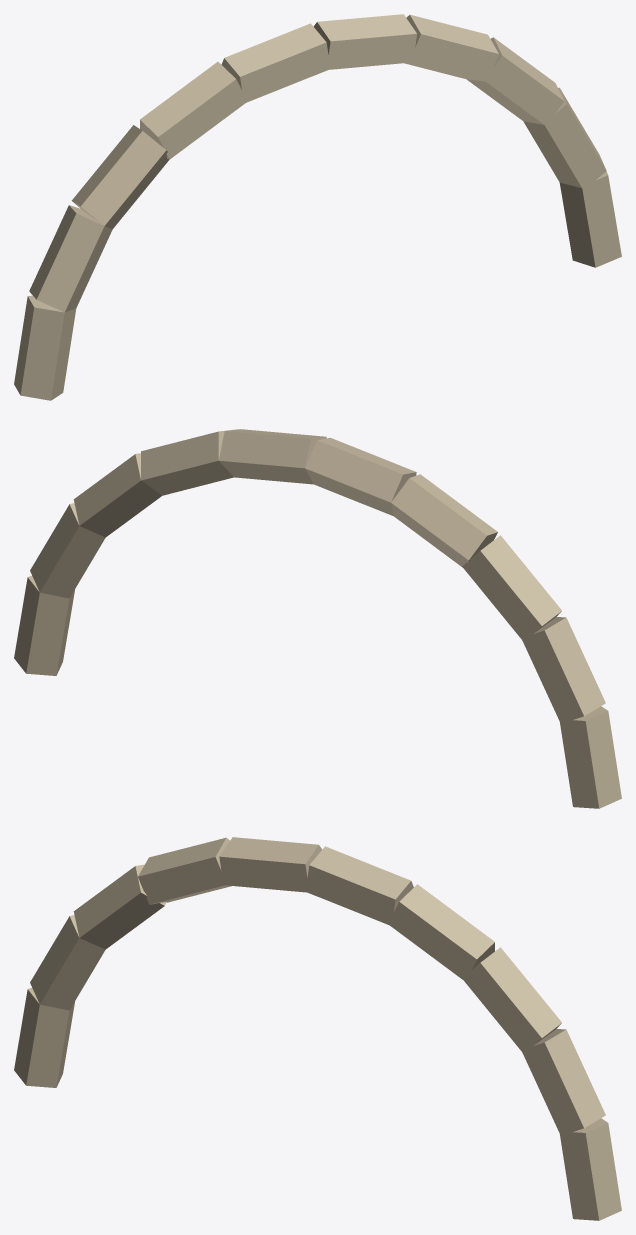
The model's file is rib.glb.
The picture shows the model from 3 angles, top to bottom: view 1: azimuth 30°, elevation 25°; view 2: azimuth 150°, elevation 25°; view 3: azimuth 330°, elevation 25°; orthographic projection.
Parts seen in each view (by area): view 1: rib arc.006, rib arc.007, rib arc.008, rib arc.005, rib arc.009, rib arc.004, rib arc, rib arc.003, rib arc.002, rib arc.001; view 2: rib arc.006, rib arc.007, rib arc.008, rib arc.005, rib arc.009, rib arc.004, rib arc, rib arc.003, rib arc.002, rib arc.001; view 3: rib arc.003, rib arc.002, rib arc.001, rib arc.004, rib arc, rib arc.005, rib arc.009, rib arc.006, rib arc.007, rib arc.008.
Boxes of the visible parts, x1,y1,x2,y2 form: rib arc.006: [140, 61, 245, 159]; rib arc.007: [71, 125, 169, 229]; rib arc.008: [29, 205, 112, 312]; rib arc.005: [221, 23, 330, 103]; rib arc.009: [14, 295, 76, 400]; rib arc.004: [313, 14, 416, 69]; rib arc: [559, 171, 621, 267]; rib arc.003: [405, 14, 498, 81]; rib arc.002: [467, 37, 564, 124]; rib arc.001: [523, 87, 606, 188]; rib arc.006: [391, 474, 497, 567]; rib arc.007: [462, 535, 561, 641]; rib arc.008: [522, 617, 605, 723]; rib arc.005: [305, 437, 416, 515]; rib arc.009: [559, 706, 621, 808]; rib arc.004: [219, 429, 326, 484]; rib arc: [14, 575, 74, 675]; rib arc.003: [141, 429, 236, 495]; rib arc.002: [73, 453, 161, 537]; rib arc.001: [30, 503, 105, 598]; rib arc.003: [388, 884, 494, 979]; rib arc.002: [462, 947, 561, 1053]; rib arc.001: [521, 1029, 605, 1132]; rib arc.004: [305, 846, 413, 924]; rib arc: [559, 1118, 621, 1220]; rib arc.005: [219, 837, 322, 892]; rib arc.009: [14, 988, 74, 1087]; rib arc.006: [138, 837, 231, 904]; rib arc.007: [73, 864, 166, 949]; rib arc.008: [30, 915, 105, 1010].
Size of the model in its own units: 0.3444 by 0.1643 by 0.026.
